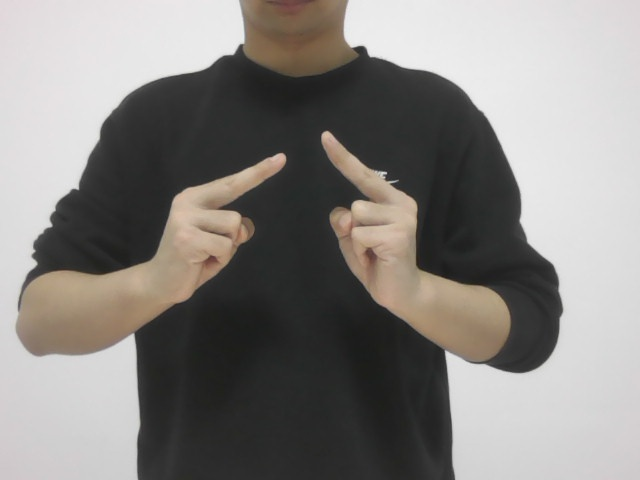know: (148, 131, 429, 327)
